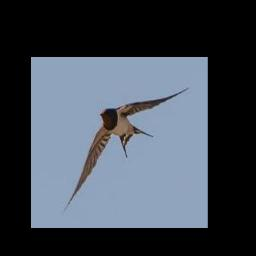Swallow: (62, 88, 190, 214)
